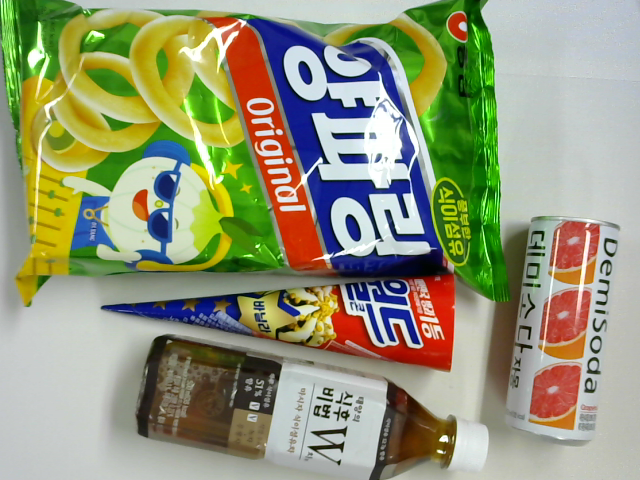Demisoda_Grapefruit_Can_250ml: (503, 215, 623, 442)
Oninon_Ring: (1, 1, 513, 309)
Post-meal_recipe_W_tea_500ml: (133, 336, 490, 480)
World_Cone_Banila: (99, 274, 456, 372)
